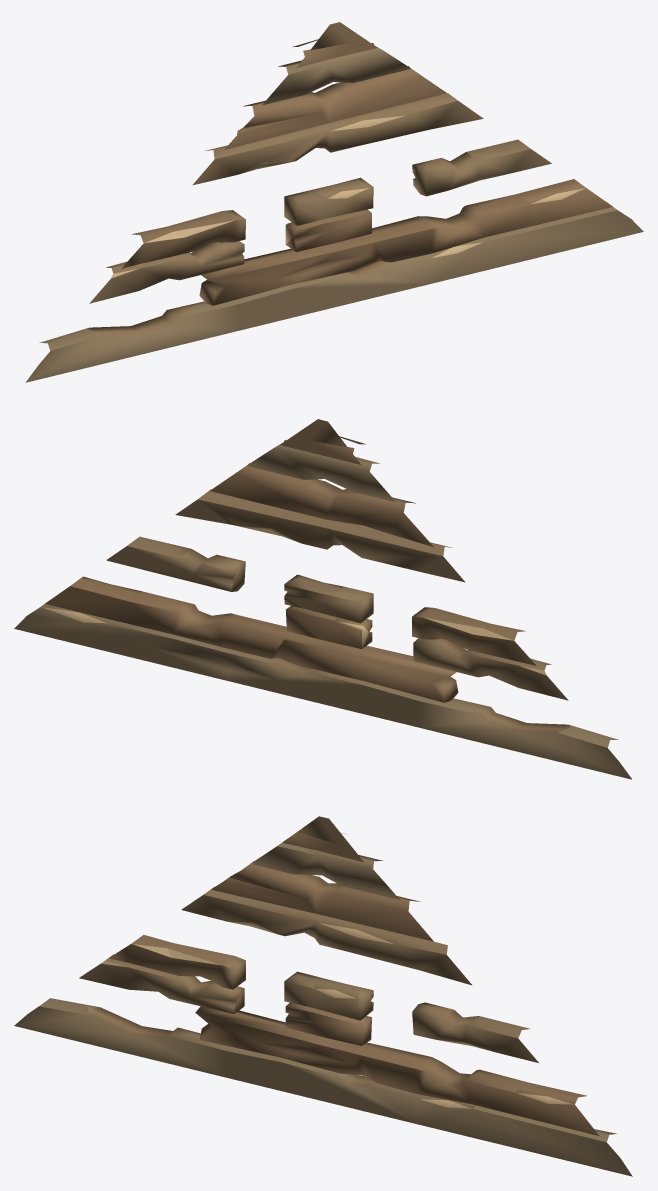
The model's file is rpgpp_av_roof_end_01_9x4_wall_window_01c.gltf.
3 views of the same model, one above another, from view 1: azimuth 30°, elevation 25°; view 2: azimuth 150°, elevation 25°; view 3: azimuth 330°, elevation 25° (orthographic).
Visible parts, largest first — view 1: rpgpp_av_roof_end_01_9x4_wall_window_01c; view 2: rpgpp_av_roof_end_01_9x4_wall_window_01c; view 3: rpgpp_av_roof_end_01_9x4_wall_window_01c.
Part boxes in pixels (x1,y1,x2,y2): rpgpp_av_roof_end_01_9x4_wall_window_01c: (25,22,643,382); rpgpp_av_roof_end_01_9x4_wall_window_01c: (14,419,631,779); rpgpp_av_roof_end_01_9x4_wall_window_01c: (14,816,632,1176).
Size of the model in its own units: 0.0967 by 0.0424 by 0.00387.
Materials: 1 (1 with a texture image).
